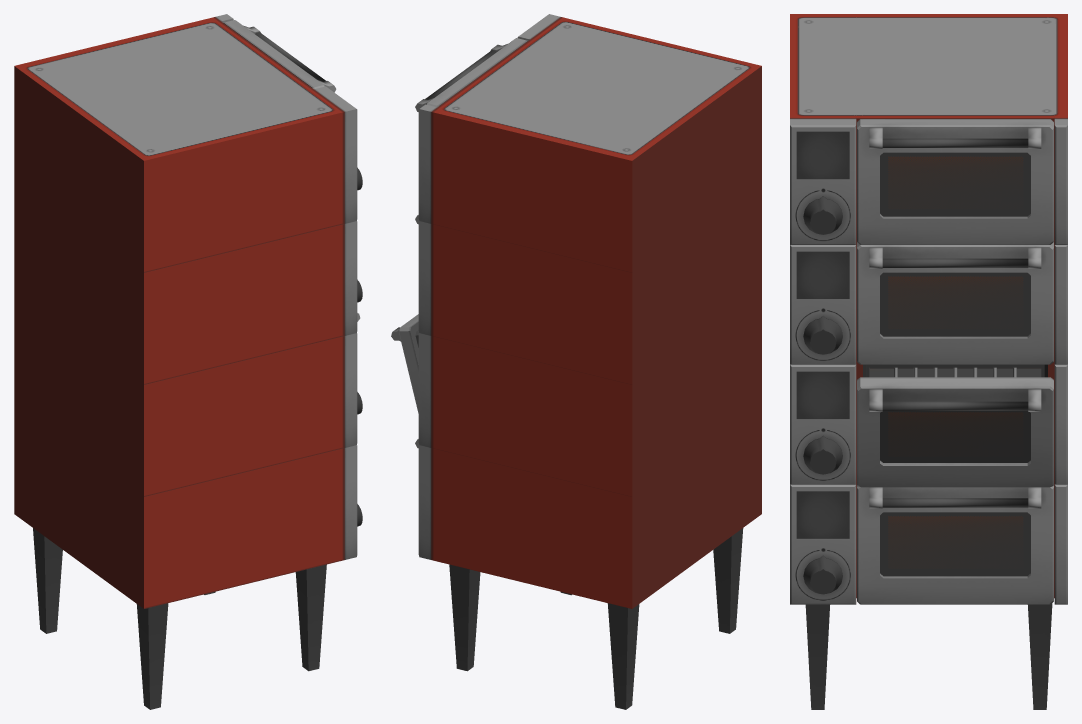
The model's file is ovenopen2.gltf.
The picture shows the model from 3 angles, left to right: view 1: azimuth 30°, elevation 25°; view 2: azimuth 150°, elevation 25°; view 3: azimuth 270°, elevation 25°; orthographic projection. The views are drawn at different scales.
Visible parts, largest first — view 1: Cube; view 2: Cube; view 3: Cube, Cube.003, Cube.006, Cube.012, Cube.009.
Boxes of the visible parts, x1=… form: Cube: x1=14, y1=14, x2=360, y2=709; Cube: x1=391, y1=14, x2=761, y2=709; Cube: x1=790, y1=14, x2=1067, y2=709; Cube.003: x1=803, y1=435, x2=842, y2=474; Cube.006: x1=803, y1=316, x2=842, y2=354; Cube.012: x1=803, y1=555, x2=842, y2=594; Cube.009: x1=803, y1=196, x2=842, y2=234.
Bounding box in the file's own units: 2.37 × 5 × 2.1.
